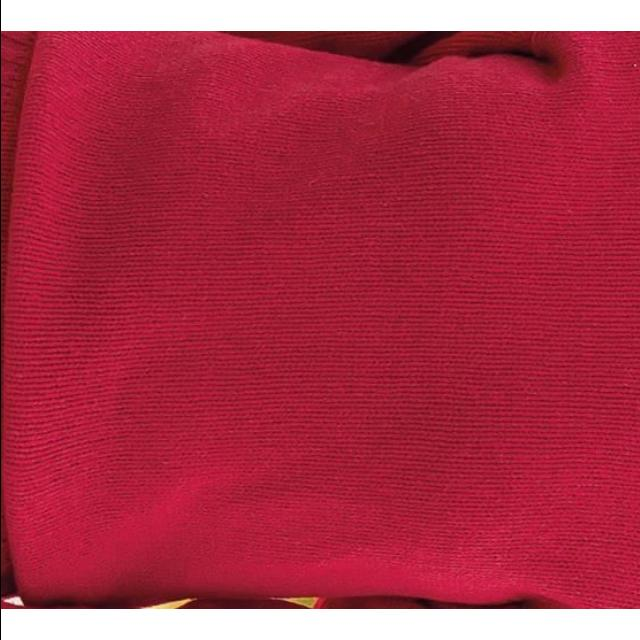wool: (0, 31, 640, 609)
